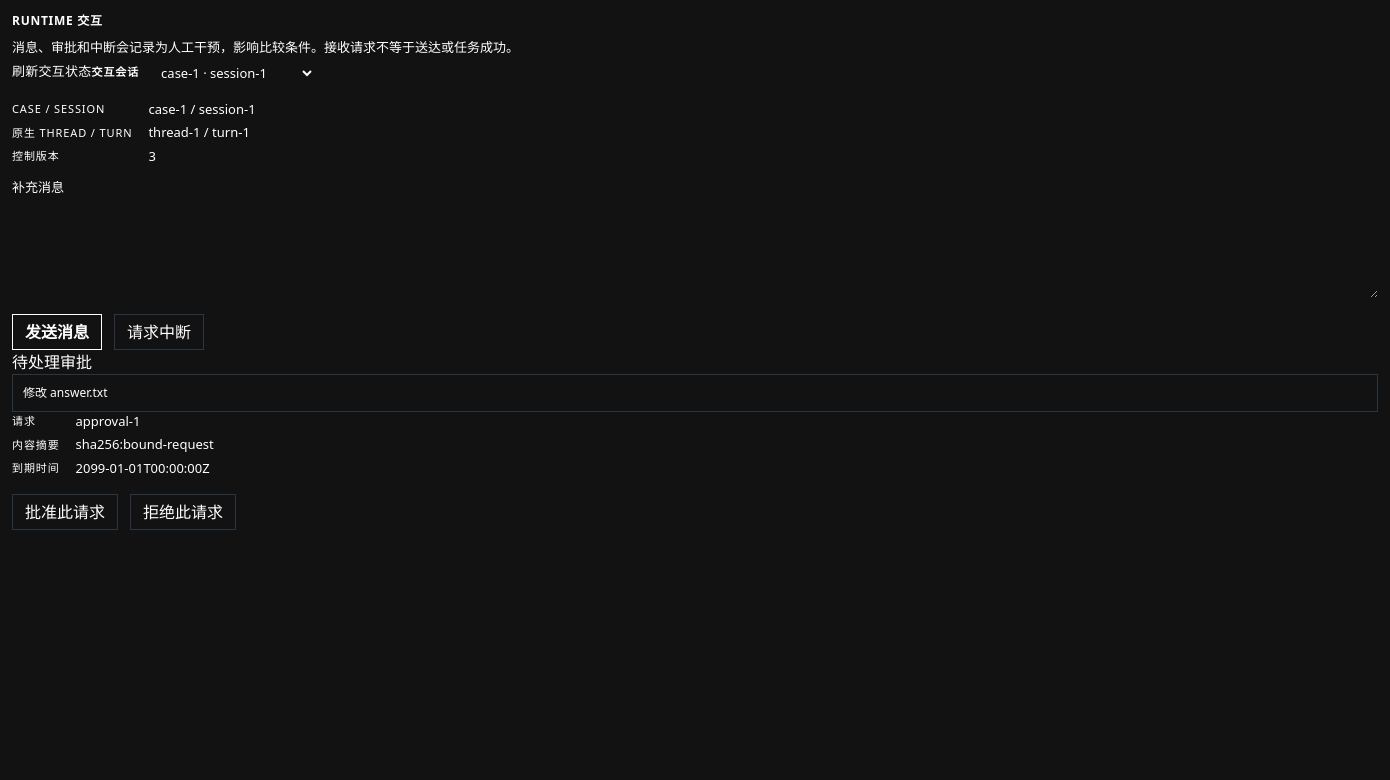
明确的过期拒绝保留错误但不会伪装送达不确定
The image size is (1390, 780).
What coordinates should you click on to do the following:
click the button "请求中断"
I would click on:
 (159, 332)
Its box is [114,314,204,350].
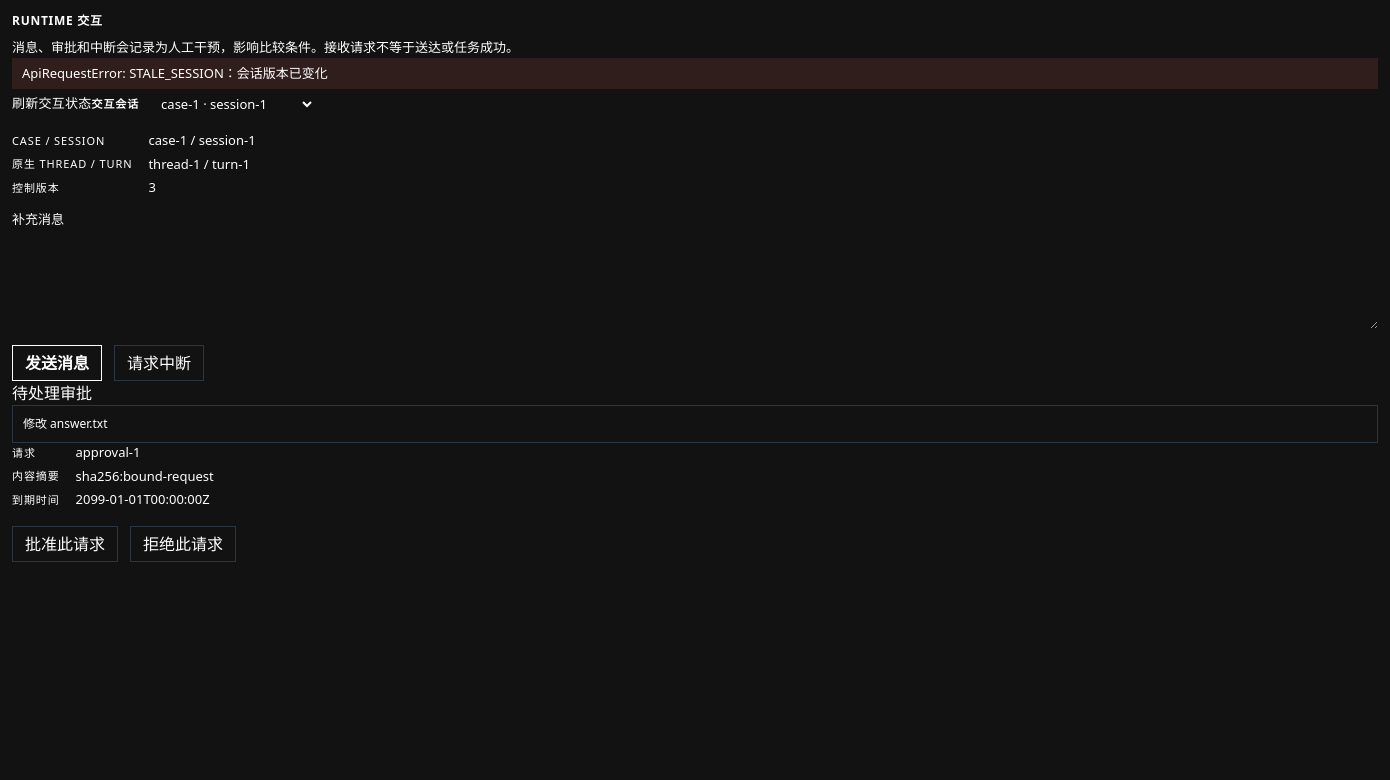
Expected: the text "ApiRequestError: STALE_SESSION：会话版本已变化" is shown, [12,58,1378,89]
